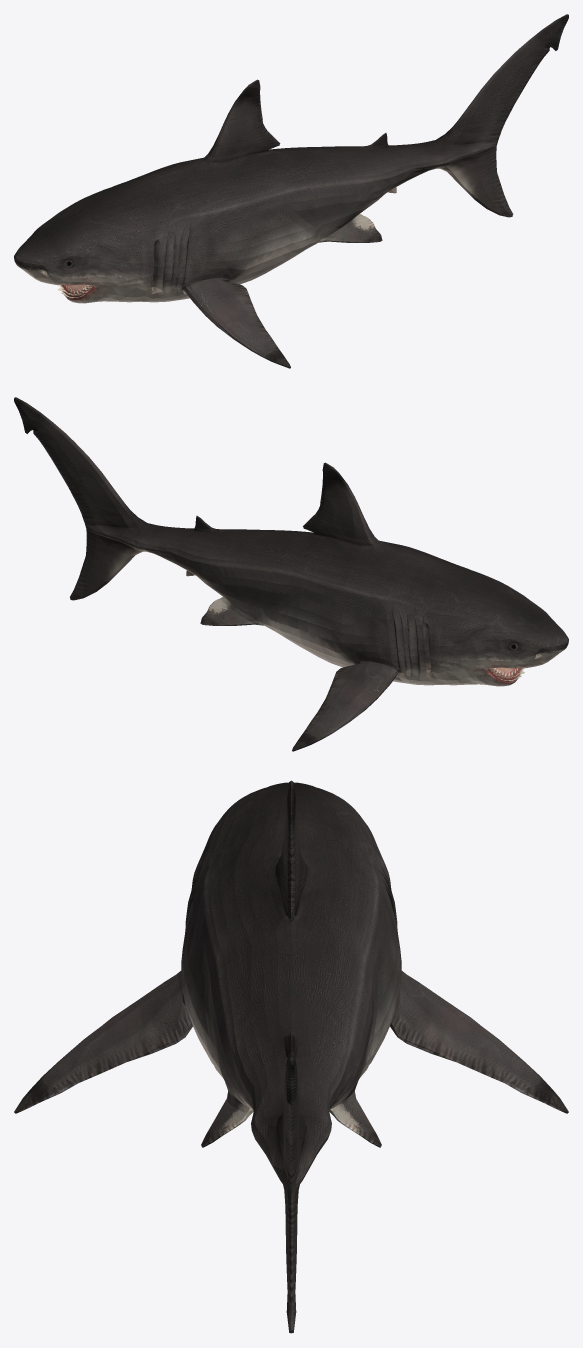
The model's file is shark.obj.
The picture shows the model from 3 angles, top to bottom: view 1: azimuth 30°, elevation 25°; view 2: azimuth 150°, elevation 25°; view 3: azimuth 270°, elevation 25°; orthographic projection. The views are drawn at different scales.
Visible parts, largest first — view 1: Object_TexMap_0; view 2: Object_TexMap_0; view 3: Object_TexMap_0.
Part boxes in pixels (x1,y1,x2,y2): Object_TexMap_0: [14, 14, 568, 368]; Object_TexMap_0: [14, 397, 568, 751]; Object_TexMap_0: [14, 780, 568, 1333].
Size of the model in its own units: 2.5 by 0.9417 by 1.27.
Materials: 1 (1 with a texture image).
